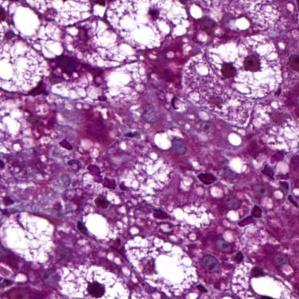ballooning: (200, 29, 286, 101), (122, 235, 199, 297), (60, 17, 132, 72)
